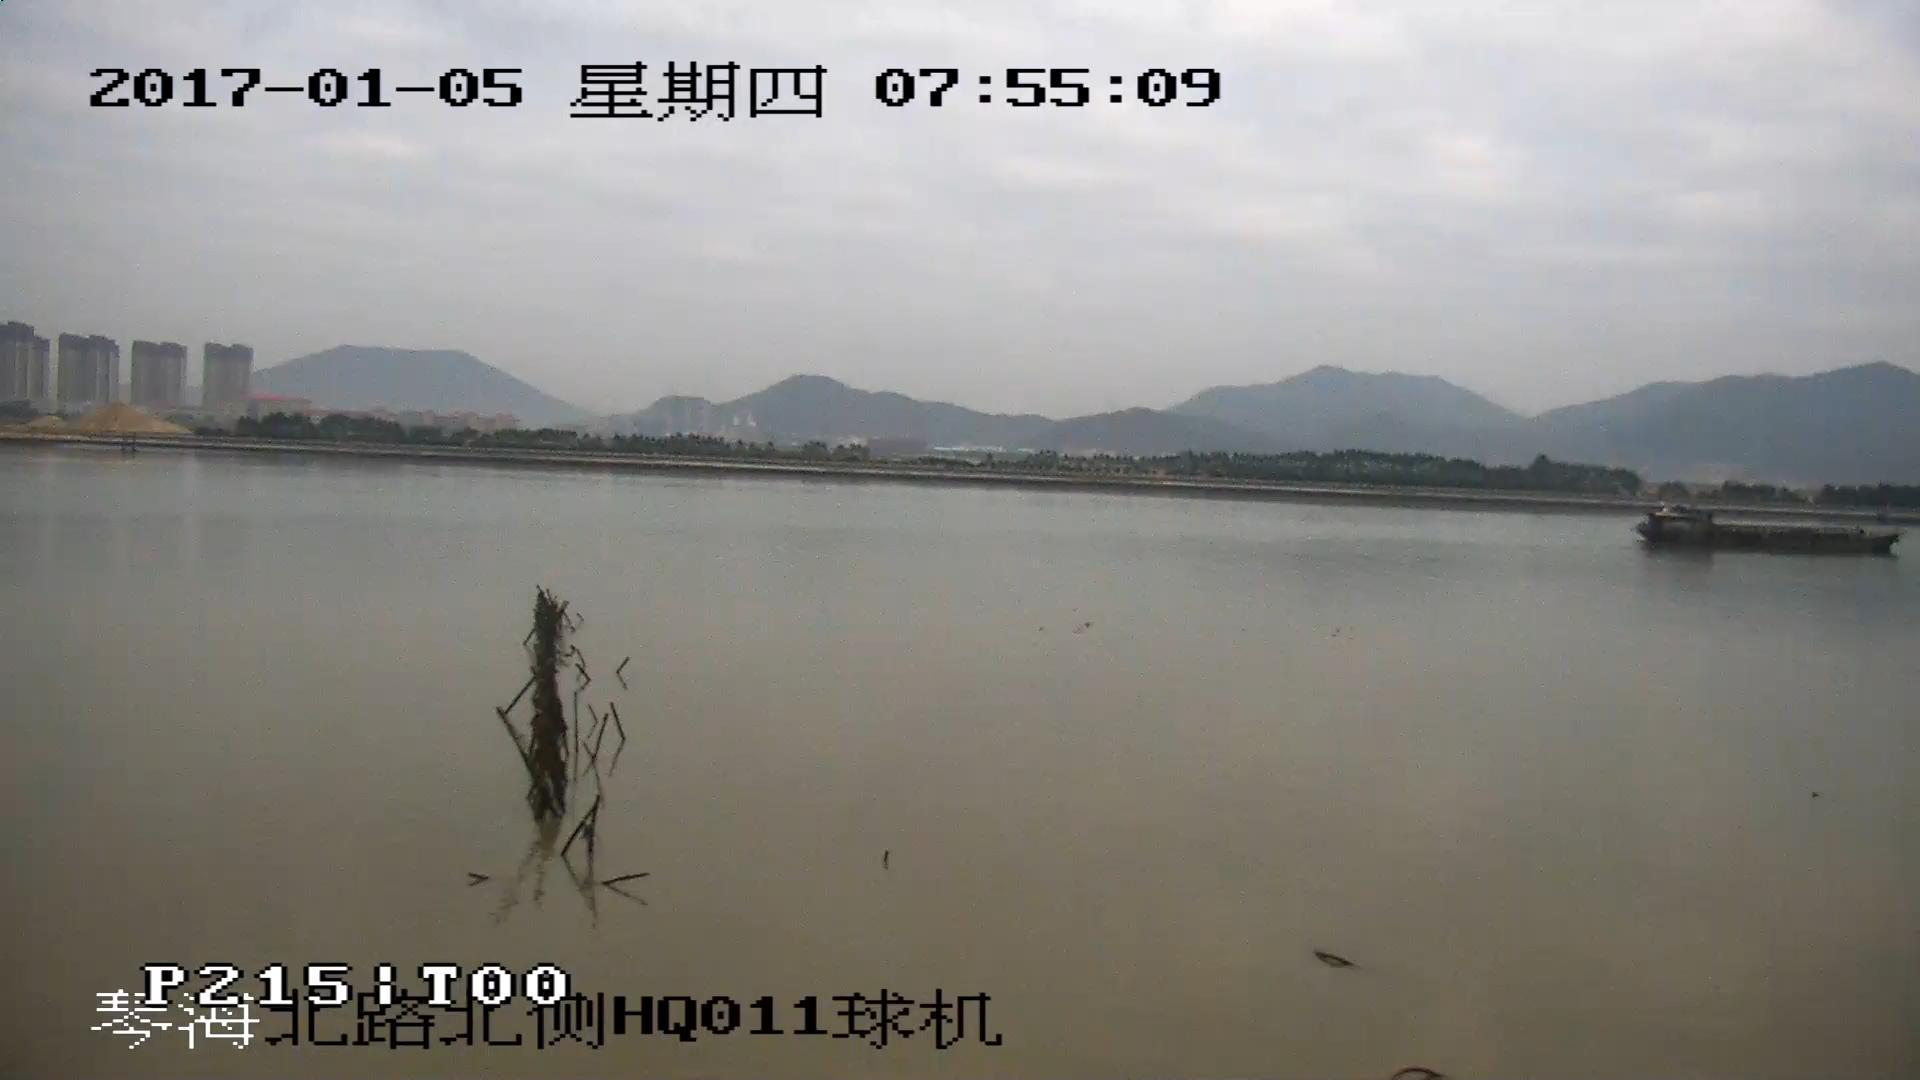Ship: (1633, 506, 1902, 556)
